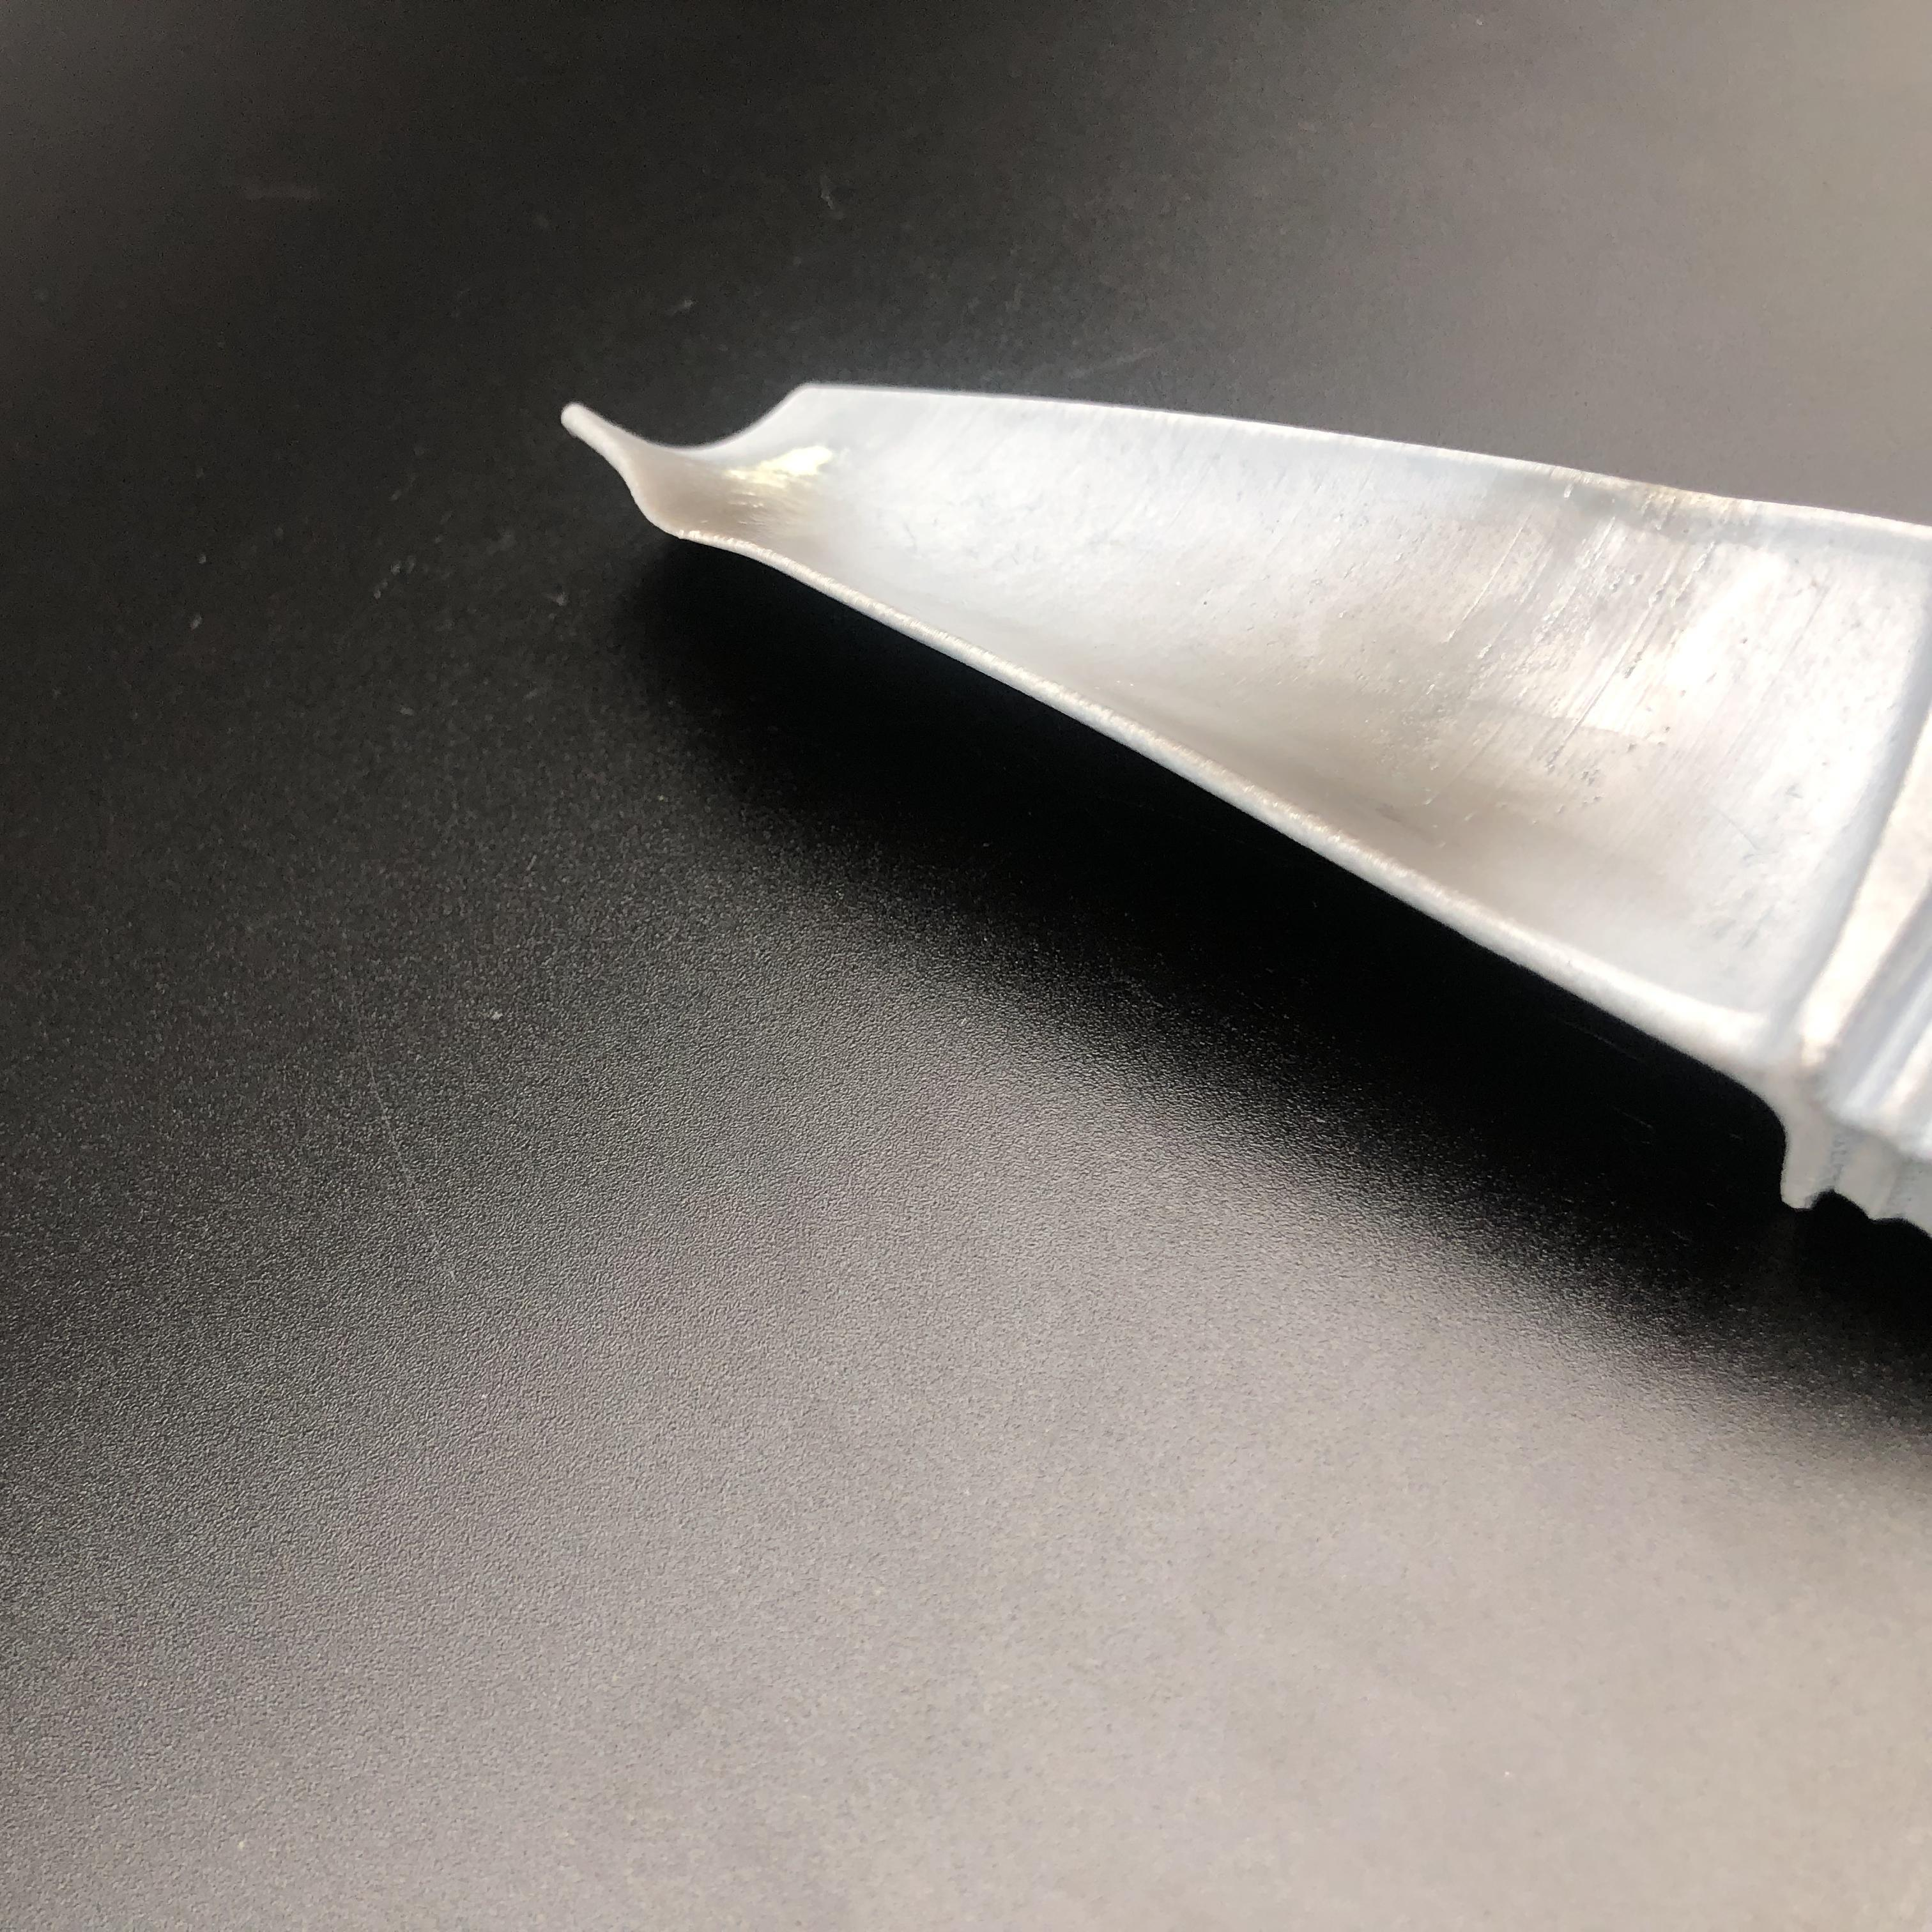ablation: (1256, 639, 1628, 879), (635, 426, 817, 552)
